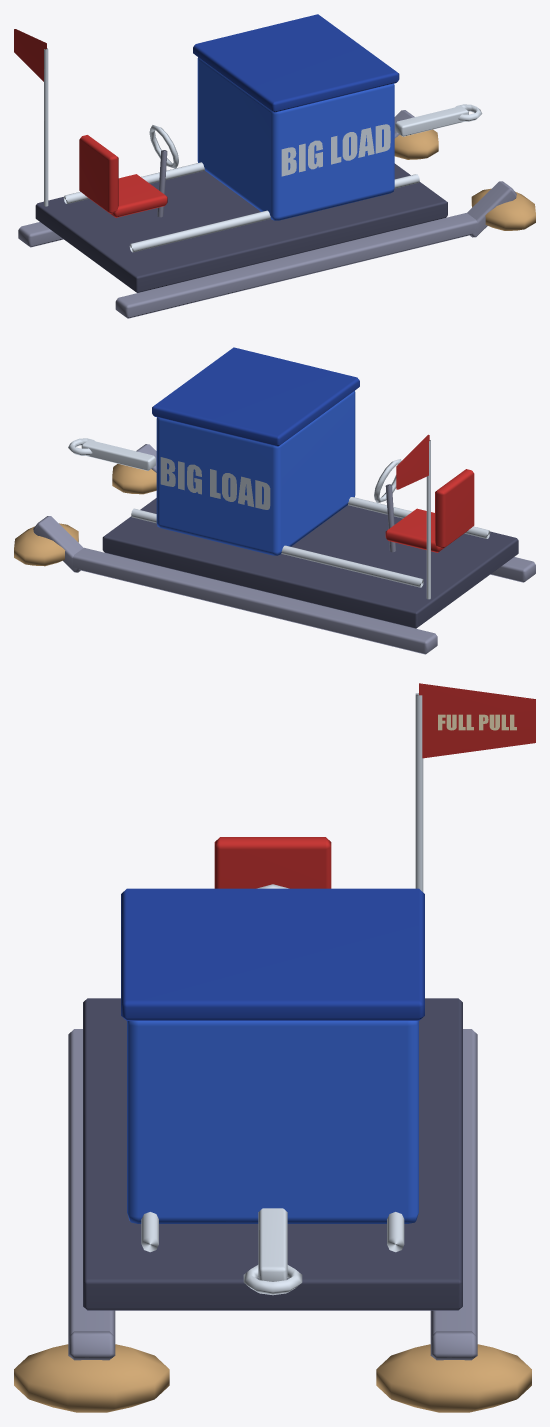
The model's file is pull_sled.glb.
3 views of the same model, one above another, from view 1: azimuth 30°, elevation 25°; view 2: azimuth 150°, elevation 25°; view 3: azimuth 270°, elevation 25° (orthographic). The views are drawn at different scales.
Parts seen in each view (by area): view 1: Sled; view 2: Sled; view 3: Sled.
Part boxes in pixels (x1,y1,x2,y2): Sled: [14, 14, 535, 318]; Sled: [14, 347, 535, 654]; Sled: [14, 683, 535, 1412].
Bounding box in the file's own units: 3 × 1.46 × 1.79.
